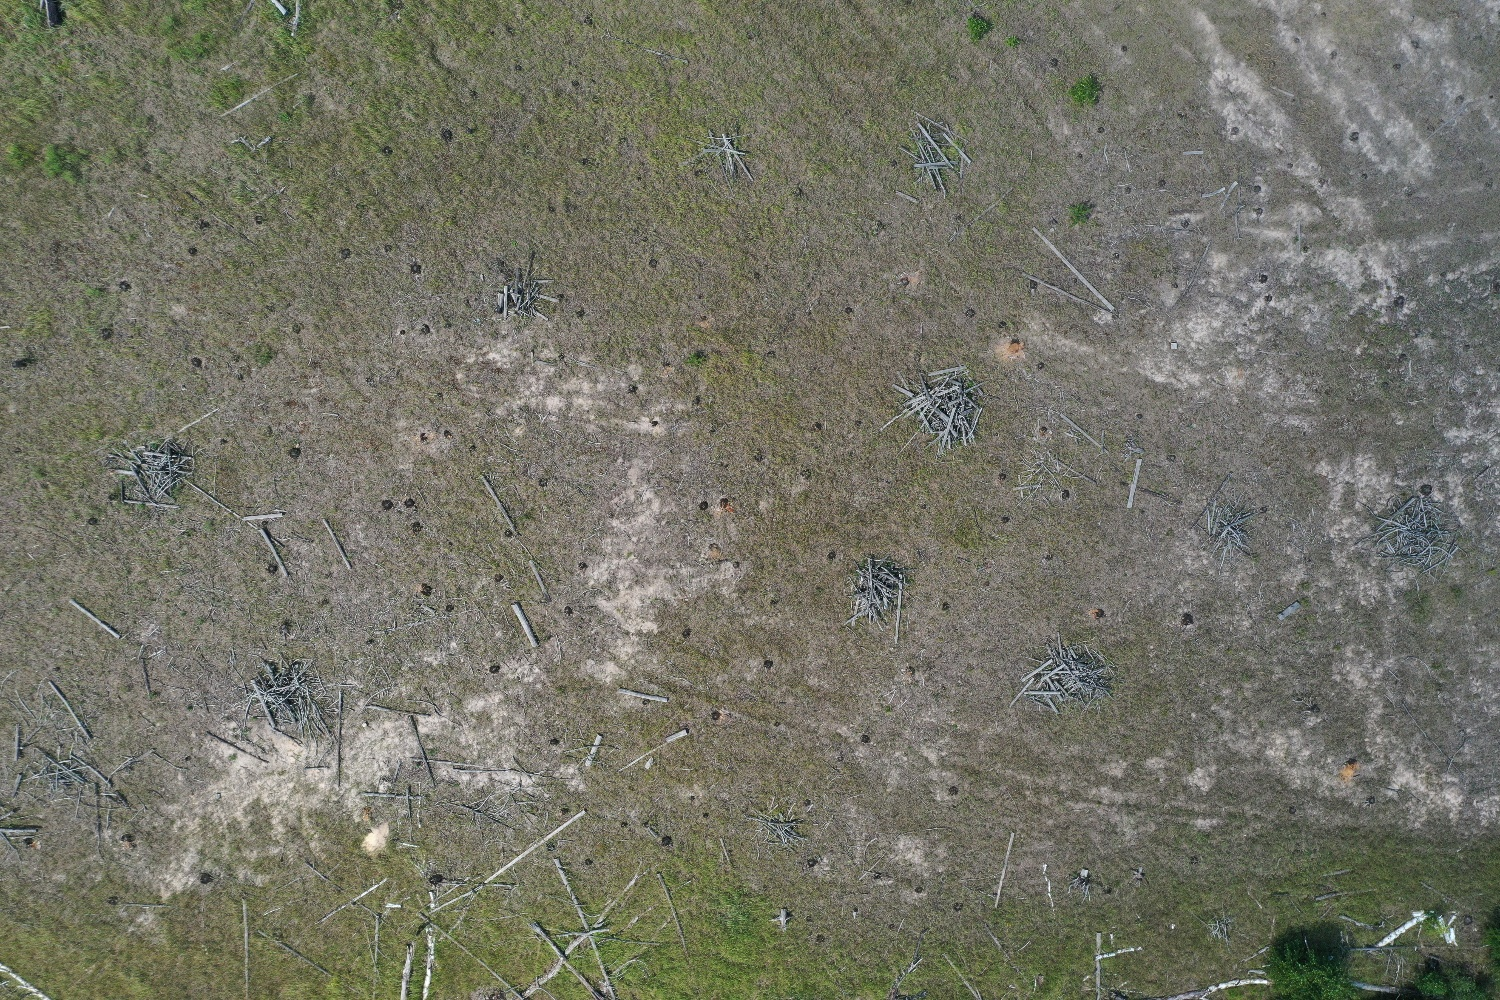branches: (879, 367, 988, 454), (1357, 494, 1461, 580), (250, 658, 337, 747), (898, 110, 975, 198), (108, 434, 199, 508), (845, 555, 916, 645), (1047, 632, 1116, 701), (27, 743, 100, 806), (1204, 498, 1267, 556), (689, 129, 754, 183), (1010, 658, 1068, 719), (496, 276, 560, 320), (750, 808, 808, 852), (1206, 913, 1235, 944)
